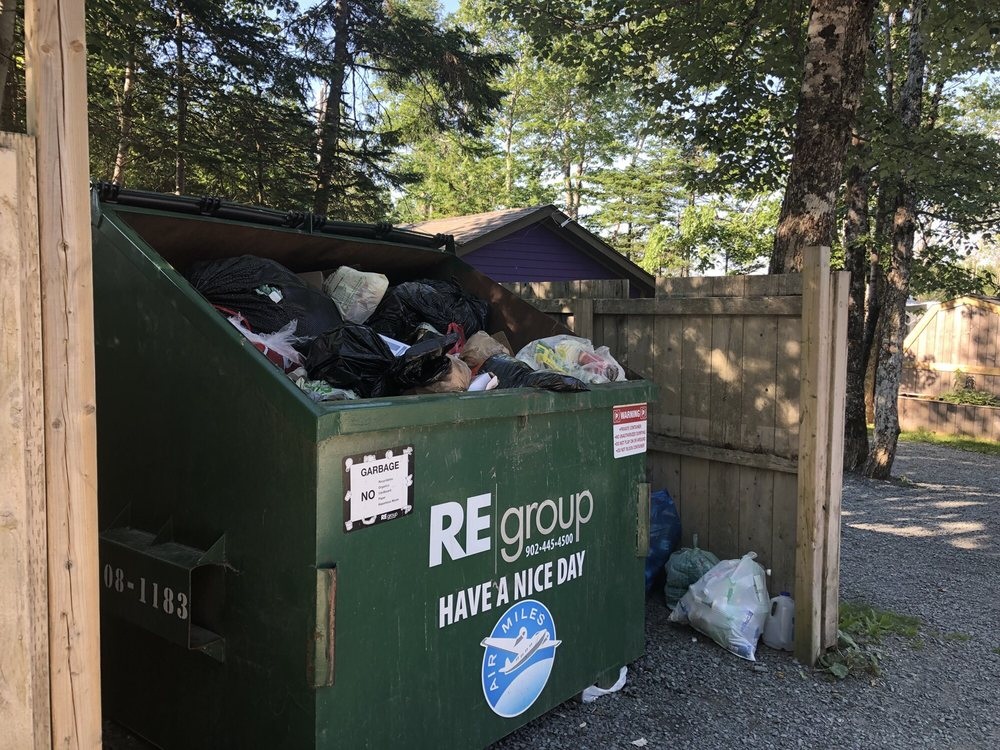Dumpster: (77, 179, 658, 745)
